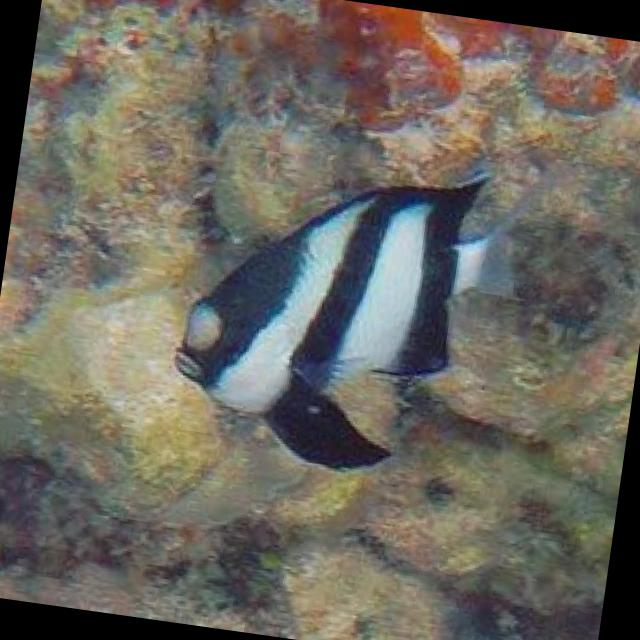Three_striped DasmselFish: (155, 134, 536, 496)
